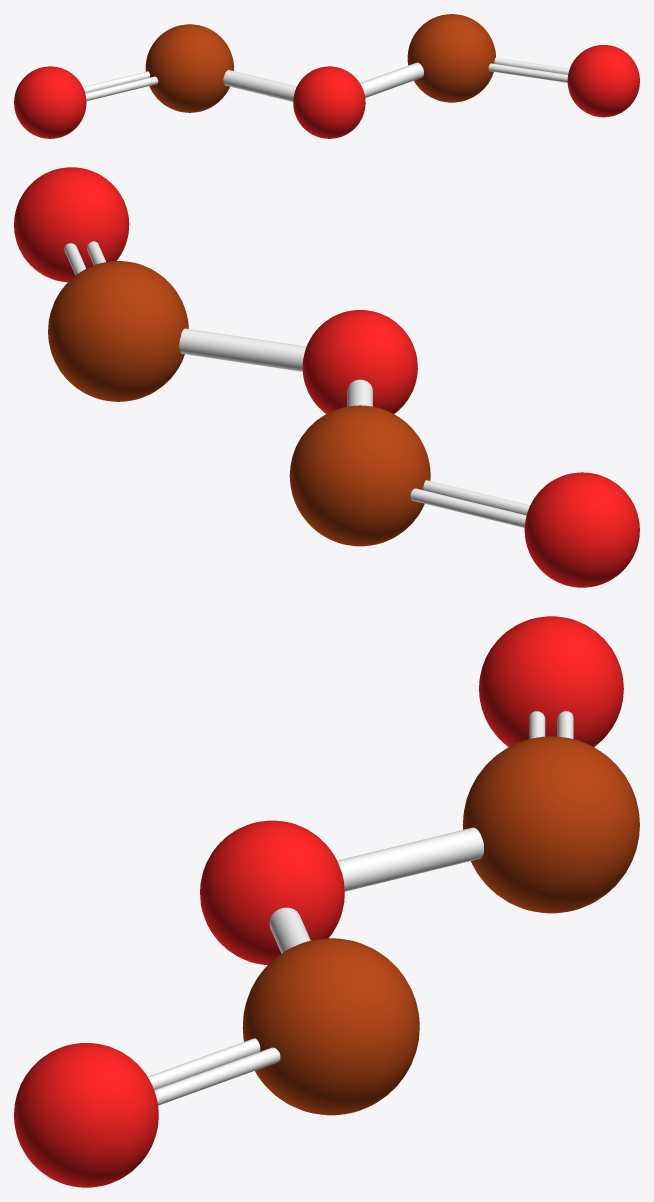
Rendered from iron_oxide.fbx.
3 views of the same model, one above another, from view 1: azimuth 30°, elevation 25°; view 2: azimuth 150°, elevation 25°; view 3: azimuth 270°, elevation 25° (orthographic). The views are drawn at different scales.
Visible parts, largest first — view 1: iron_oxide; view 2: iron_oxide; view 3: iron_oxide.
Boxes of the visible parts, x1,y1,x2,y2 form: iron_oxide: [14, 14, 639, 138]; iron_oxide: [14, 167, 639, 587]; iron_oxide: [14, 616, 639, 1187].
Bounding box in the file's own units: 287 × 44 × 155.
